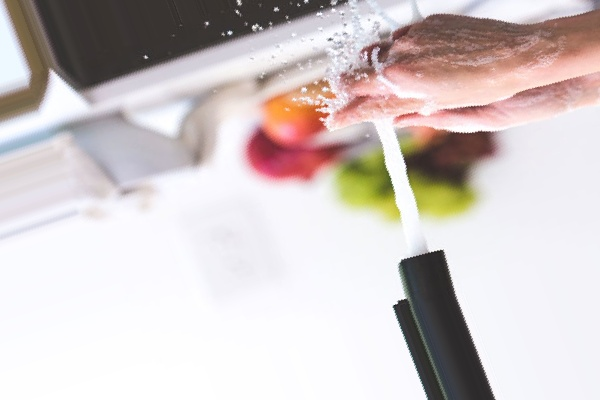washing hand: (168, 0, 599, 344)
